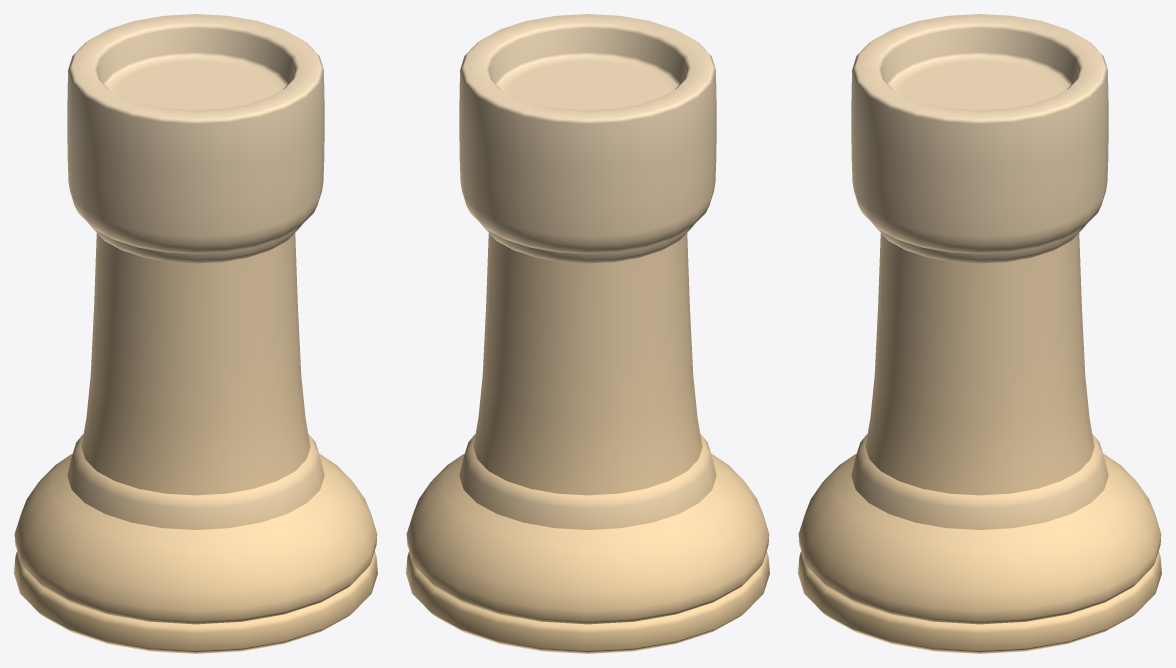
Rendered from Chess_White_Rook_01.fbx.
The picture shows the model from 3 angles, left to right: view 1: azimuth 30°, elevation 25°; view 2: azimuth 150°, elevation 25°; view 3: azimuth 270°, elevation 25°; orthographic projection.
Visible parts, largest first — view 1: Chess_White_Rook_01; view 2: Chess_White_Rook_01; view 3: Chess_White_Rook_01.
Boxes of the visible parts, <box> form: Chess_White_Rook_01: <box>14,14,377,653</box>; Chess_White_Rook_01: <box>406,14,769,653</box>; Chess_White_Rook_01: <box>798,14,1161,653</box>.
Size of the model in its own units: 3.69 by 5.81 by 3.69.
